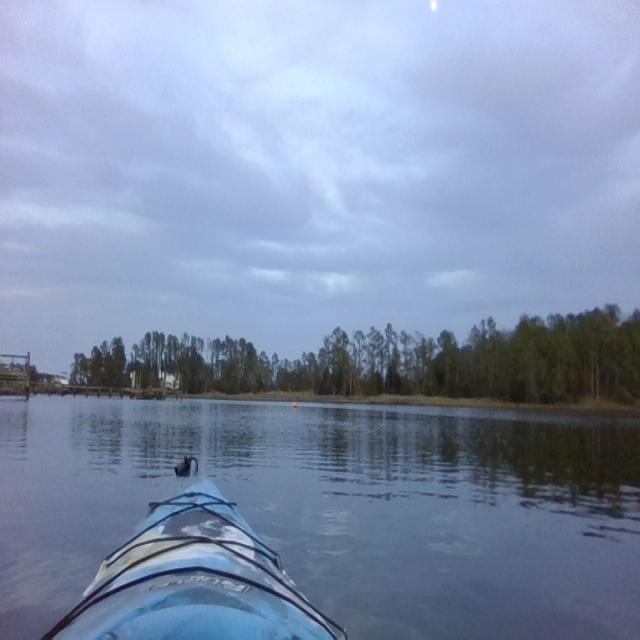Buoy: (292, 400, 298, 411)
